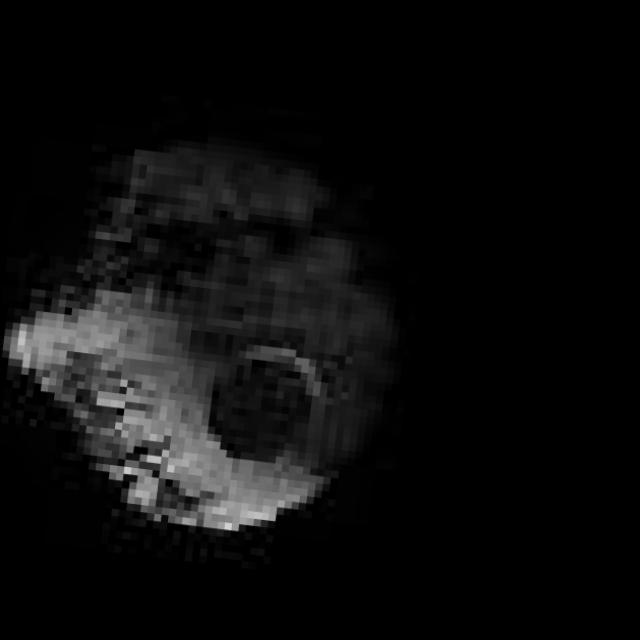Death Star: (0, 107, 434, 563)
